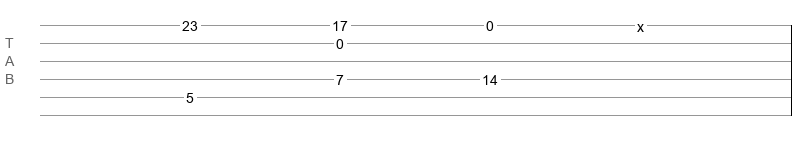0: (336, 36, 344, 46), (486, 18, 494, 28)
14: (482, 72, 498, 82)
17: (332, 18, 348, 28)
23: (182, 18, 198, 28)
5: (186, 90, 194, 100)
7: (336, 72, 344, 82)
x: (637, 19, 644, 27)
